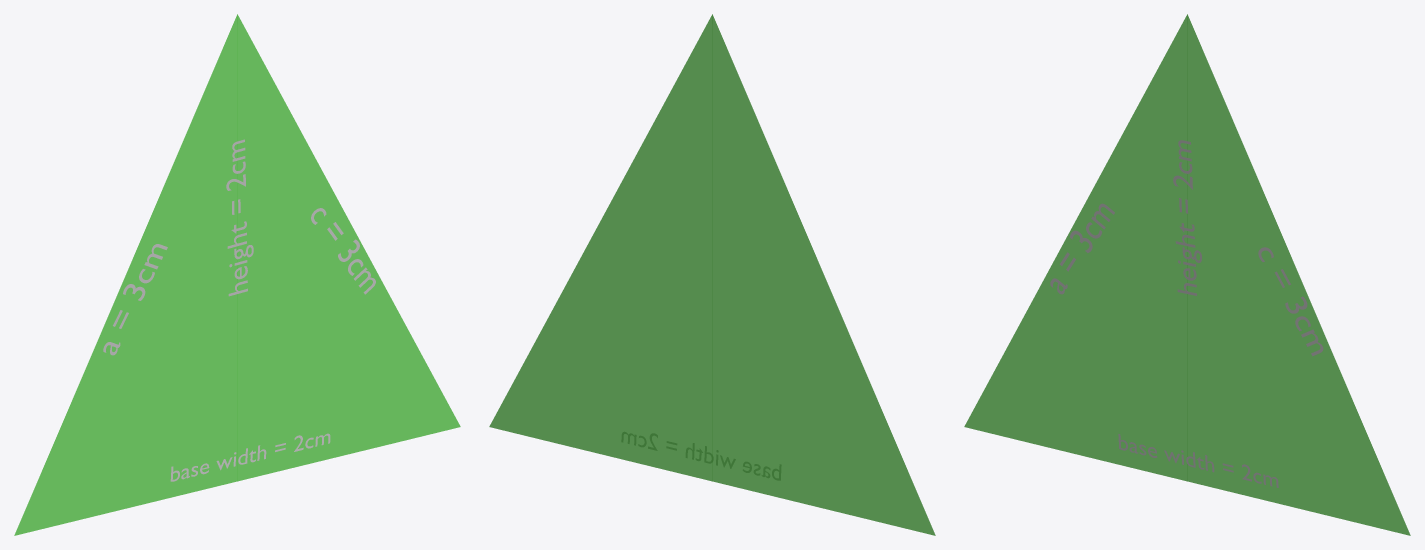
File: triangle2x3x3.glb
3 views of the same model, side by side, from view 1: azimuth 30°, elevation 25°; view 2: azimuth 150°, elevation 25°; view 3: azimuth 330°, elevation 25° (orthographic).
Visible parts, largest first — view 1: Cone, height, base with, Text, Text.001; view 2: Cone, base with; view 3: Cone, height, base with, Text, Text.001.
Boxes of the visible parts, box(x1,y1,x2,y2) form: Cone: box(14, 14, 460, 535); height: box(226, 139, 253, 296); base with: box(170, 433, 330, 481); Text: box(103, 244, 167, 355); Text.001: box(311, 208, 375, 294); Cone: box(489, 14, 935, 535); base with: box(622, 432, 780, 479); Cone: box(964, 14, 1410, 535); height: box(1173, 140, 1201, 295); base with: box(1118, 434, 1278, 487); Text: box(1050, 203, 1114, 294); Text.001: box(1258, 247, 1323, 356).
Size of the model in its own units: 0.2 by 0.2 by 0.00156.
